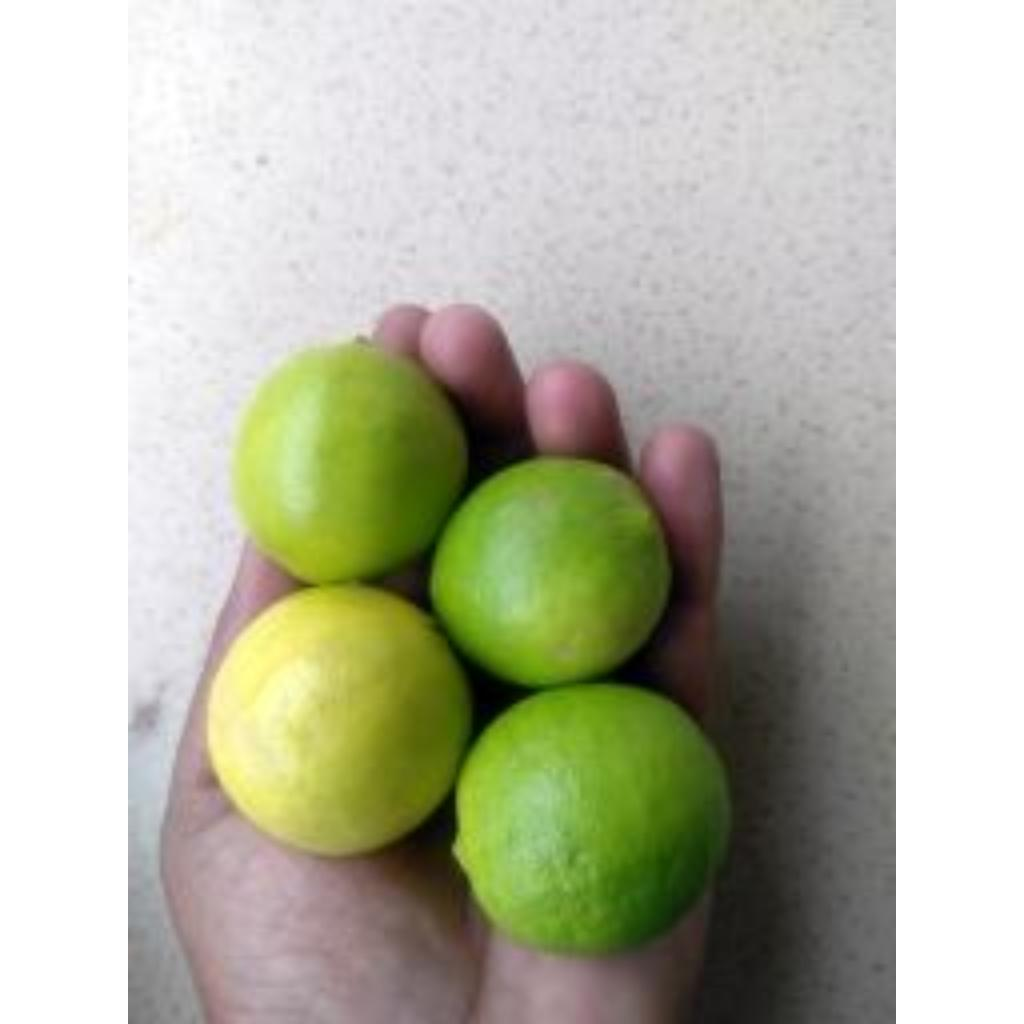lemon: (454, 684, 730, 953), (206, 584, 472, 855), (234, 342, 466, 583), (430, 456, 672, 685)
